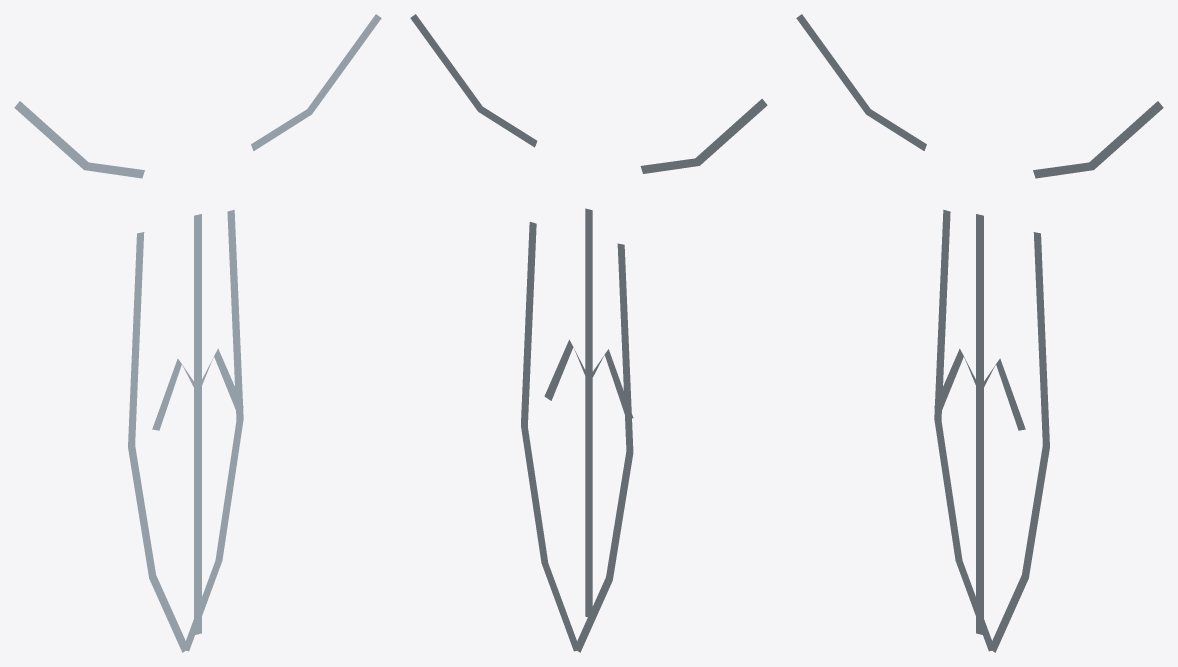
Rendered from Eula_LightfallSwordState_Zero_LightfallInlay.fbx.
3 views of the same model, side by side, from view 1: azimuth 30°, elevation 25°; view 2: azimuth 150°, elevation 25°; view 3: azimuth 330°, elevation 25° (orthographic). The views are drawn at different scales.
Parts seen in each view (by area): view 1: PART_BladeColdBevel_-1, PART_SwordLuminousInlay_0, PART_BladeColdBevel_1, PART_SwordLuminousInlay_3, PART_SwordLuminousInlay_2, PART_SwordLuminousInlay_1; view 2: PART_BladeColdBevel_1, PART_BladeColdBevel_-1, PART_SwordLuminousInlay_0, PART_SwordLuminousInlay_3, PART_SwordLuminousInlay_2, PART_SwordLuminousInlay_1; view 3: PART_BladeColdBevel_1, PART_SwordLuminousInlay_0, PART_BladeColdBevel_-1, PART_SwordLuminousInlay_2, PART_SwordLuminousInlay_3, PART_SwordLuminousInlay_1.
Part boxes in pixels (<box>): PART_BladeColdBevel_-1: <box>128,232,188,652</box>; PART_SwordLuminousInlay_0: <box>194,214,201,635</box>; PART_BladeColdBevel_1: <box>182,209,243,651</box>; PART_SwordLuminousInlay_3: <box>251,14,381,150</box>; PART_SwordLuminousInlay_2: <box>14,101,144,178</box>; PART_SwordLuminousInlay_1: <box>152,348,243,430</box>; PART_BladeColdBevel_1: <box>521,222,579,651</box>; PART_BladeColdBevel_-1: <box>574,243,633,652</box>; PART_SwordLuminousInlay_0: <box>585,208,592,617</box>; PART_SwordLuminousInlay_3: <box>410,14,537,147</box>; PART_SwordLuminousInlay_2: <box>640,99,767,173</box>; PART_SwordLuminousInlay_1: <box>544,339,633,418</box>; PART_BladeColdBevel_1: <box>990,232,1049,652</box>; PART_SwordLuminousInlay_0: <box>976,214,983,635</box>; PART_BladeColdBevel_-1: <box>934,209,995,651</box>; PART_SwordLuminousInlay_2: <box>796,14,926,150</box>; PART_SwordLuminousInlay_3: <box>1033,101,1163,178</box>; PART_SwordLuminousInlay_1: <box>934,348,1025,430</box>.
Bounding box in the file's own units: 122 × 191 × 7.
